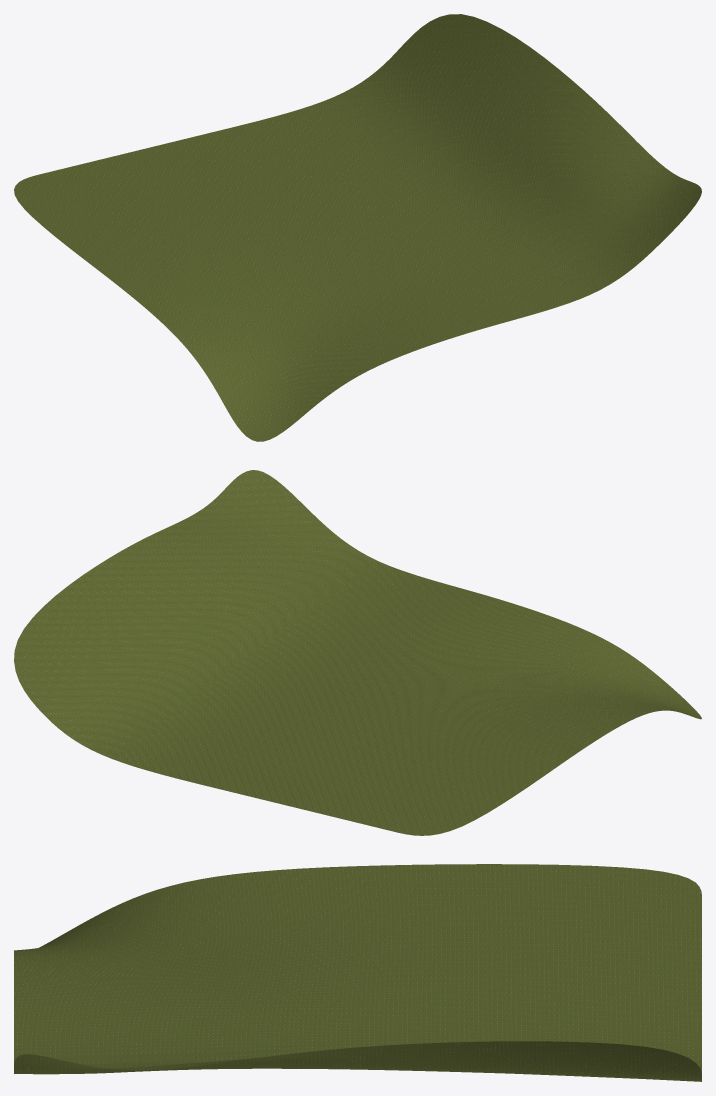
File: terrain.obj
3 views of the same model, one above another, from view 1: azimuth 30°, elevation 25°; view 2: azimuth 150°, elevation 25°; view 3: azimuth 270°, elevation 25° (orthographic). The views are drawn at different scales.
Parts seen in each view (by area): view 1: Plane; view 2: Plane; view 3: Plane.
Part boxes in pixels (x1,y1,x2,y2): Plane: [14, 14, 701, 441]; Plane: [14, 470, 701, 835]; Plane: [14, 864, 701, 1081].
Bounding box in the file's own units: 2000 × 630 × 2000.
1 material, 1 textured.
